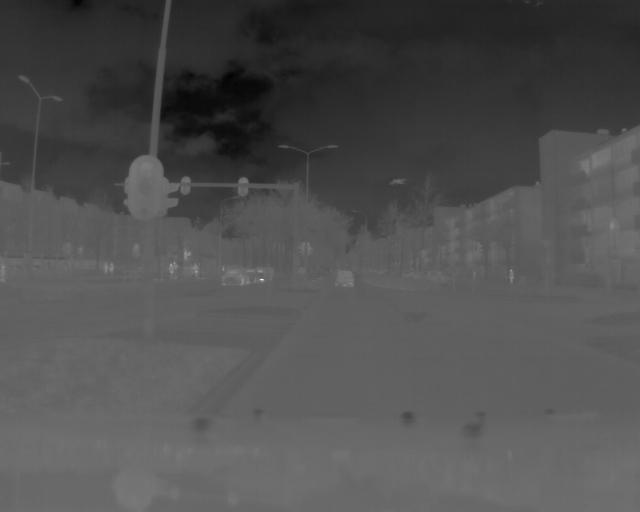car: (222, 264, 252, 289), (333, 267, 358, 291)
